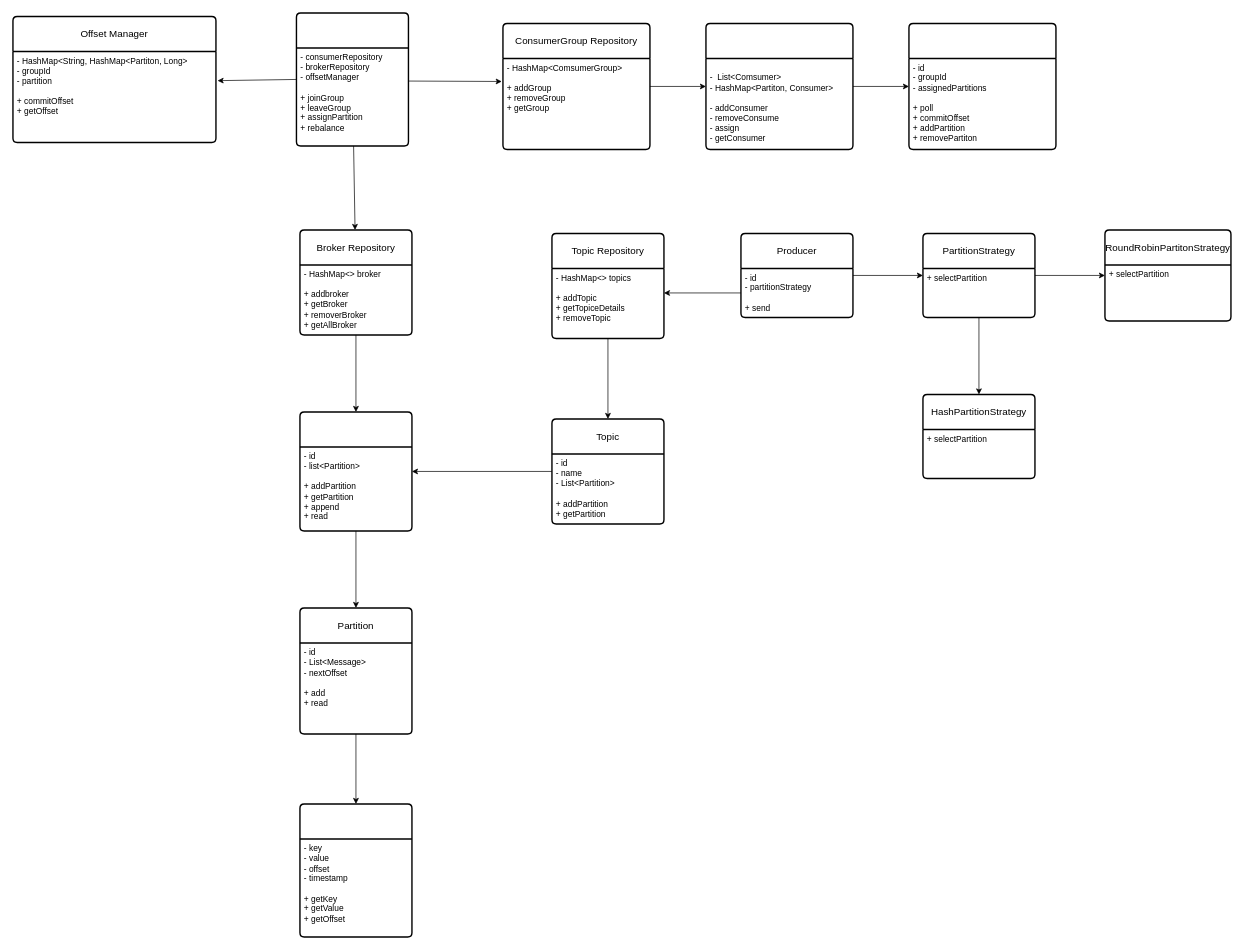
This 1243x949 diagram has some shape labels left out. The box of each missing label's shape, as (x1, y1, x2, y2) in pixels:
Broker: (299, 411, 412, 531)
Consumer: (908, 22, 1056, 150)
ConsumerGroup: (705, 22, 853, 150)
Kafka Cordinator: (295, 12, 409, 146)
Message: (299, 803, 412, 937)
